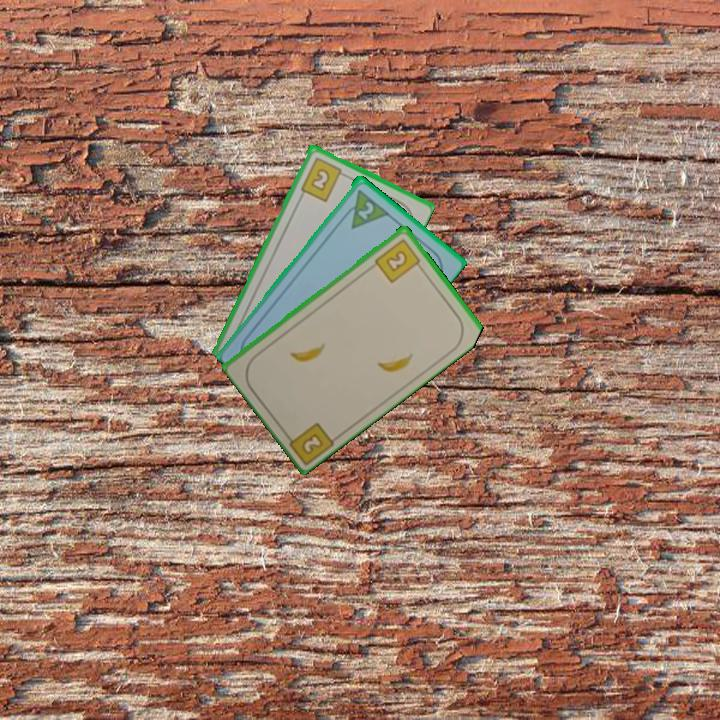2b: (280, 418, 338, 466), (371, 235, 425, 285), (297, 153, 349, 204)
2p: (338, 185, 391, 232)
